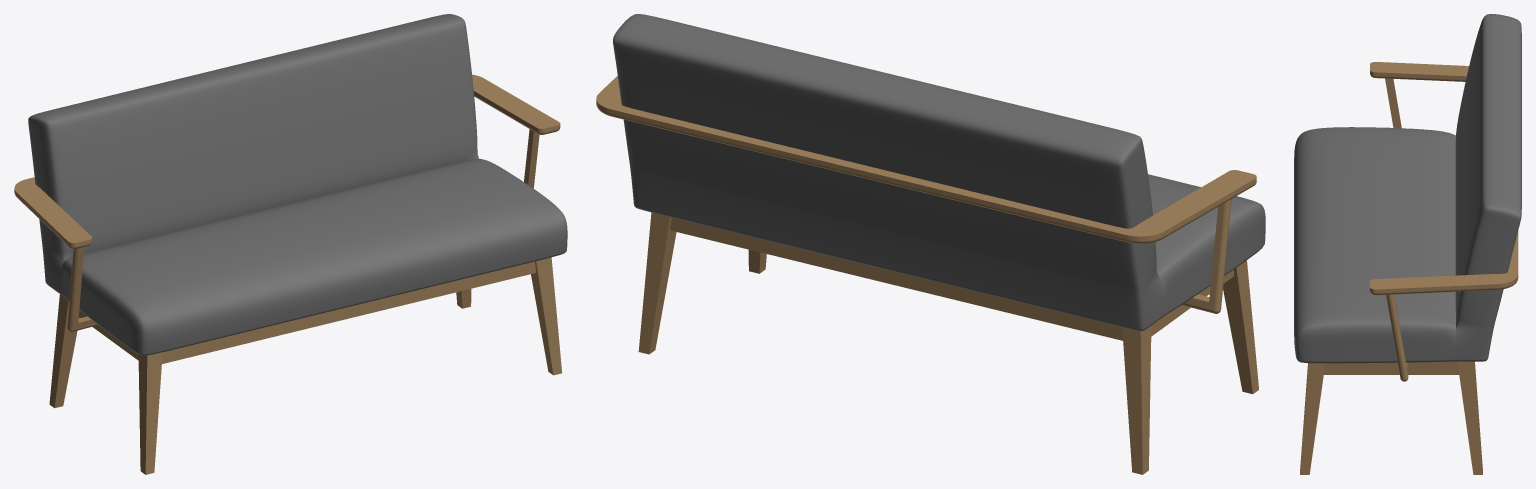
The model's file is 548_ダイニングソファ2人掛け.glb.
The picture shows the model from 3 angles, left to right: view 1: azimuth 30°, elevation 25°; view 2: azimuth 150°, elevation 25°; view 3: azimuth 270°, elevation 25°; orthographic projection. The views are drawn at different scales.
Parts seen in each view (by area): view 1: Body; view 2: Body; view 3: Body.
Boxes of the visible parts, <box> form: Body: <box>14,14,567,474</box>; Body: <box>596,14,1265,474</box>; Body: <box>1294,14,1521,474</box>.
Size of the model in its own units: 1.4 by 0.7691 by 0.5909.
